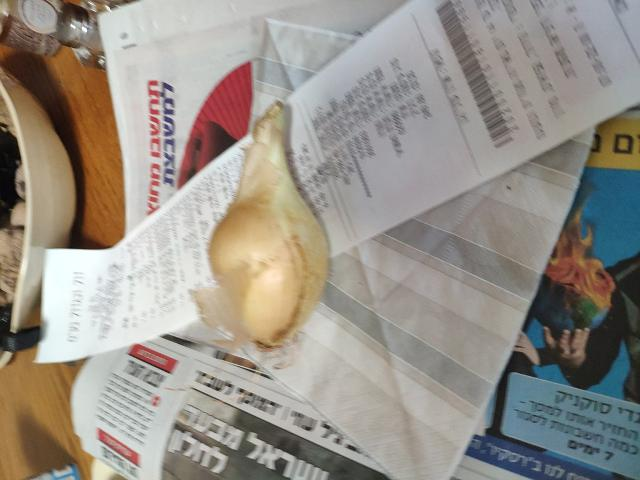onion: (197, 120, 331, 344)
